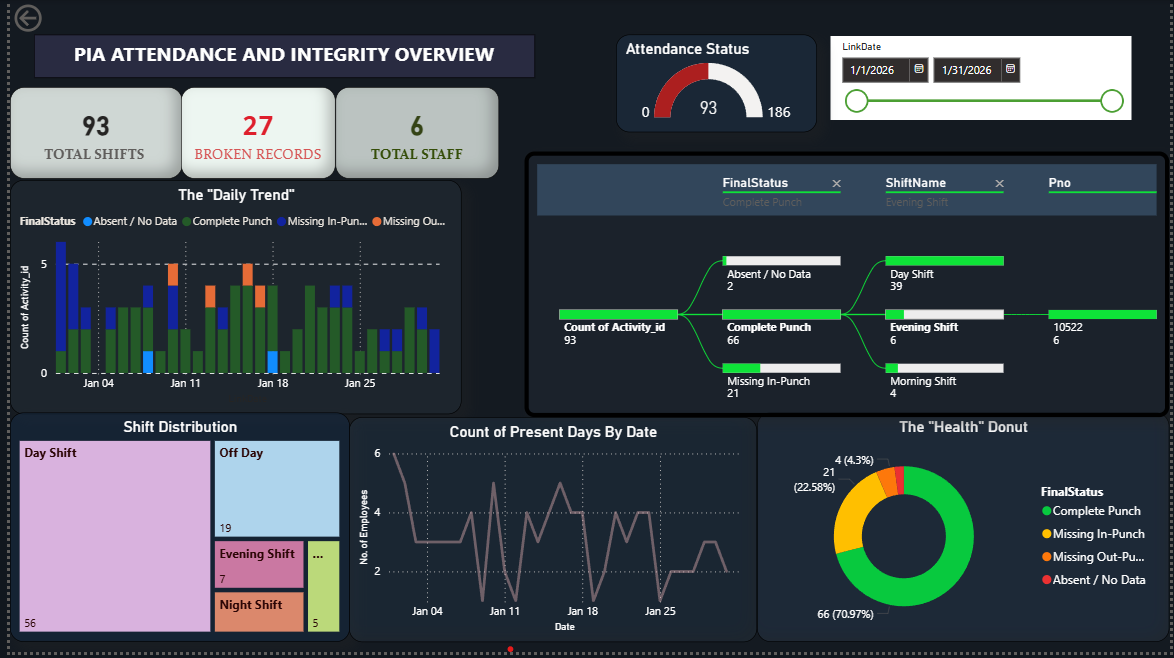

Layout of this report page (visuals, bound fields, positions):
{"tool":"powerbi","page":{"name":"Page 1","canvas":[1280,720],"ordinal":0},"visuals":[{"type":"card","fields":{"Values":["Count(PIA_attendance.Pno)"]},"box":[359.5,96.1,180.6,101],"z":0},{"type":"donutChart","title":"The \"Health\" Donut","fields":{"Category":["PIA_attendance.FinalStatus"],"Y":["CountNonNull(PIA_attendance.Activity_id)"]},"box":[825,455,455,253.3],"z":1000},{"type":"textbox","box":[26.5,38.1,553.3,48],"z":2000},{"type":"slicer","fields":{"Values":["PIA_attendance.LinkDate"]},"box":[906.7,40,331.7,91.7],"z":3000},{"type":"card","fields":{"Values":["CountNonNull(PIA_attendance.Activity_id)"]},"box":[0,96.1,190.5,101],"z":4000},{"type":"card","fields":{"Values":["CountNonNull(PIA_attendance.Activity_id)"]},"box":[188.8,96.1,170.6,101],"z":5000},{"type":"columnChart","title":"The \"Daily Trend\"","fields":{"Y":["CountNonNull(PIA_attendance.Activity_id)"],"Series":["PIA_attendance.FinalStatus"],"Category":["PIA_attendance.LinkDate"]},"box":[0,198.8,498.6,258.4],"z":6000},{"type":"treemap","title":" Shift Distribution","fields":{"Group":["PIA_attendance.ShiftName"],"Values":["CountNonNull(PIA_attendance.Activity_id)"]},"box":[0,455,375,253.3],"z":7000},{"type":"actionButton","box":[0,0,100,40],"z":8000},{"type":"decompositionTreeVisual","fields":{"Analyze":["CountNonNull(PIA_attendance.Activity_id)"],"ExplainBy":["PIA_attendance.FinalStatus","PIA_attendance.ShiftName","PIA_attendance.Pno","Calendar.Day_Name"]},"box":[568.2,167.3,712.3,293.2],"z":9000},{"type":"lineChart","title":"Count of Present Days By Date","fields":{"Y":["CountNonNull(PIA_attendance.Attendance Status)"],"Category":["PIA_attendance.LinkDate"]},"box":[374.4,460.5,450.6,248.5],"z":10000},{"type":"gauge","fields":{"Y":["CountNonNull(PIA_attendance.Attendance Status)"]},"box":[669.2,38.1,222,107.7],"z":11000}]}

Visuals, with their boxes in screenshot pixels (x1, y1, x2, y2), scaled from the page's 1280x720 canvas onto the 1174x658 screenshot:
card - Count(PIA_attendance.Pno): box=[330, 88, 495, 180]
"The "Health" Donut" donutChart: box=[757, 416, 1173, 647]
textbox: box=[24, 35, 532, 79]
slicer - PIA_attendance.LinkDate: box=[832, 37, 1136, 120]
card - CountNonNull(PIA_attendance.Activity_id): box=[0, 88, 175, 180]
card - CountNonNull(PIA_attendance.Activity_id): box=[173, 88, 330, 180]
"The "Daily Trend"" columnChart: box=[0, 182, 457, 418]
" Shift Distribution" treemap: box=[0, 416, 344, 647]
actionButton: box=[0, 0, 92, 37]
decompositionTreeVisual - CountNonNull(PIA_attendance.Activity_id) x PIA_attendance.FinalStatus: box=[521, 153, 1173, 421]
"Count of Present Days By Date" lineChart: box=[343, 421, 757, 648]
gauge - CountNonNull(PIA_attendance.Attendance Status): box=[614, 35, 817, 133]
